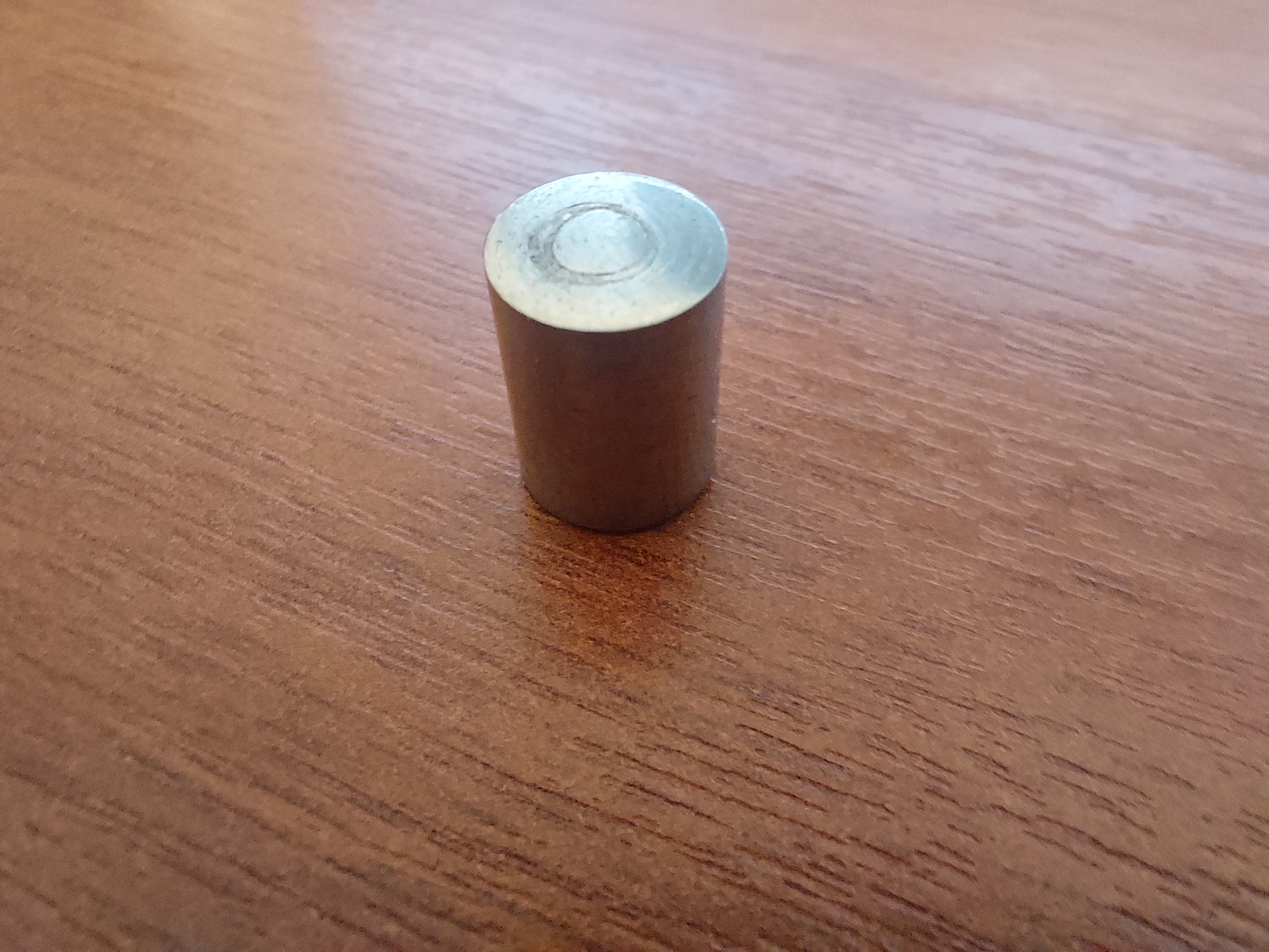tablet: (431, 161, 783, 545)
